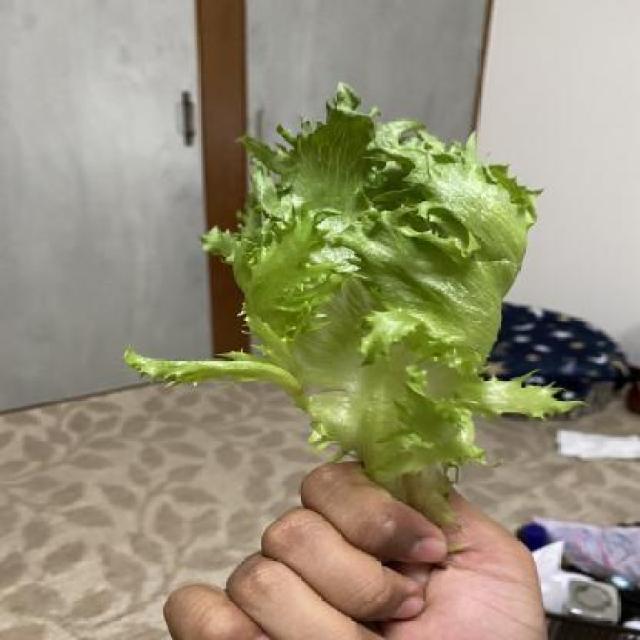Lettuce: (120, 68, 590, 500)
